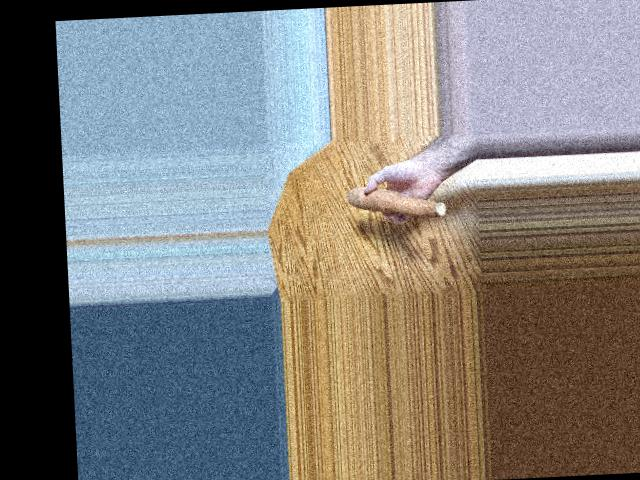sweet_potato: (342, 189, 450, 219)
